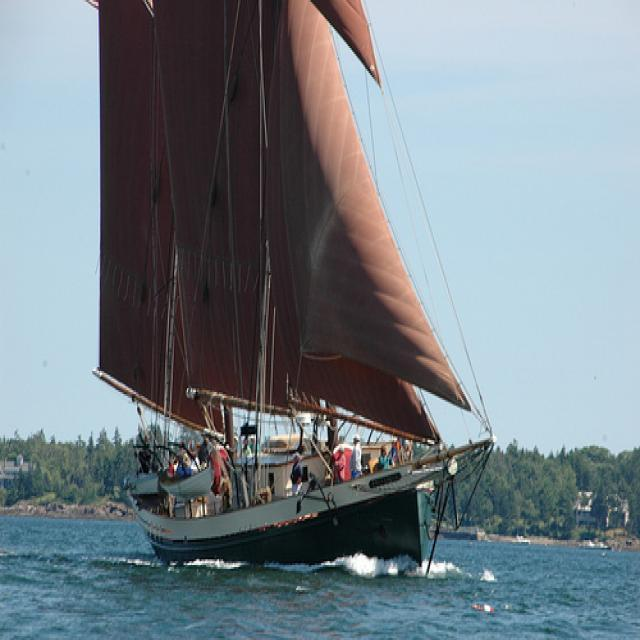Ship: (78, 3, 492, 579)
